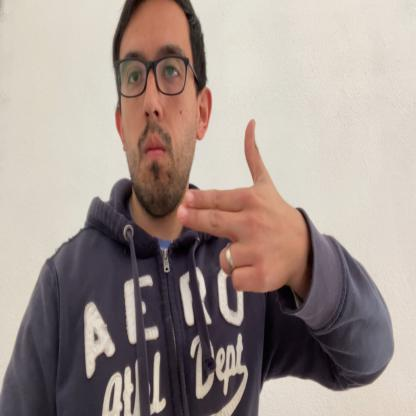H: (178, 119, 297, 292)
